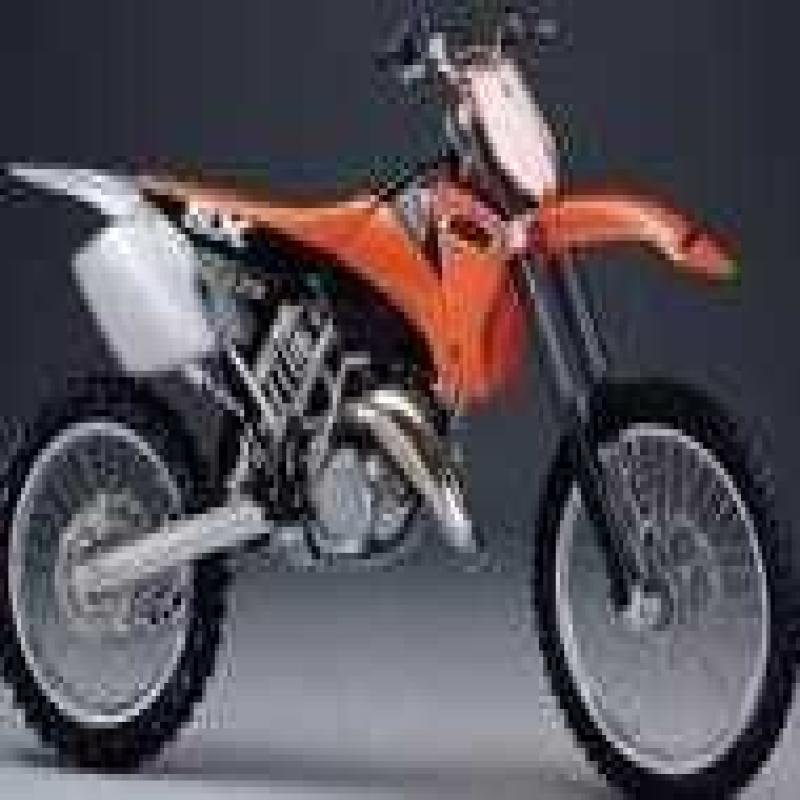bike: (8, 0, 796, 800)
